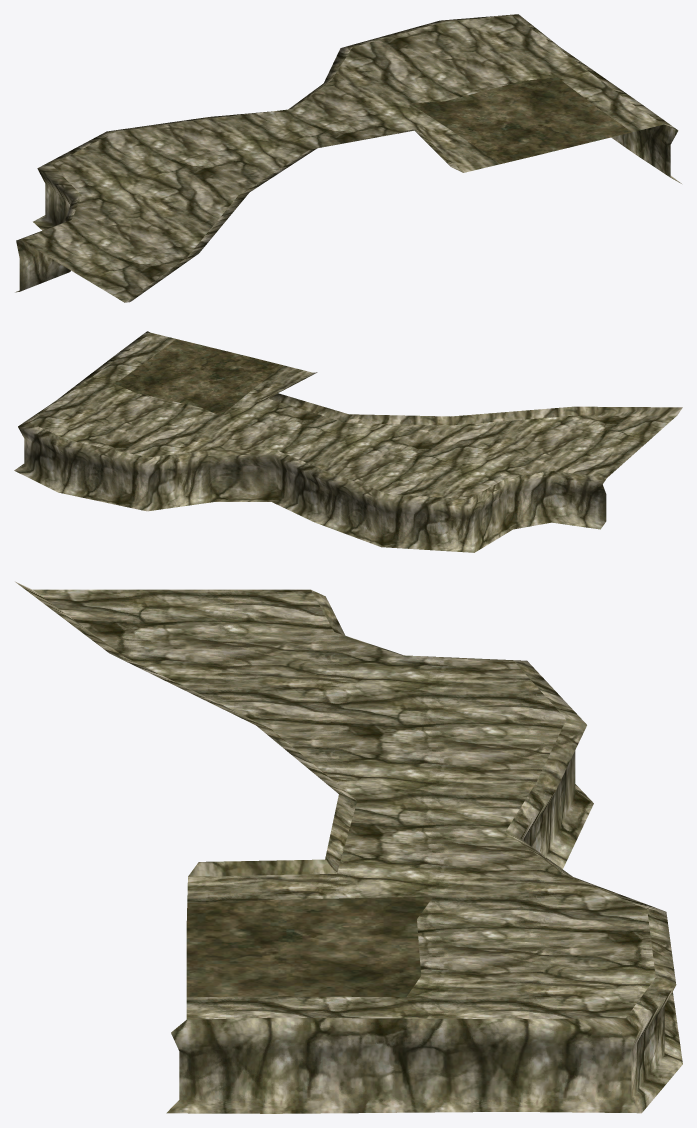
Rendered from CB_NEWPLAYSURFACE_CB_PLAYSURFACE146.fbx.
3 views of the same model, one above another, from view 1: azimuth 30°, elevation 25°; view 2: azimuth 150°, elevation 25°; view 3: azimuth 270°, elevation 25° (orthographic). The views are drawn at different scales.
Parts seen in each view (by area): view 1: CB_NEWPLAYSURFACE_CB_PLAYSURFACE146; view 2: CB_NEWPLAYSURFACE_CB_PLAYSURFACE146; view 3: CB_NEWPLAYSURFACE_CB_PLAYSURFACE146.
Part boxes in pixels (x1=…): CB_NEWPLAYSURFACE_CB_PLAYSURFACE146: x1=15, y1=14, x2=681, y2=302; CB_NEWPLAYSURFACE_CB_PLAYSURFACE146: x1=14, y1=331, x2=682, y2=552; CB_NEWPLAYSURFACE_CB_PLAYSURFACE146: x1=15, y1=581, x2=682, y2=1113.
Bounding box in the file's own units: 333037 × 35286 × 214391.
3 materials, 3 textured.
